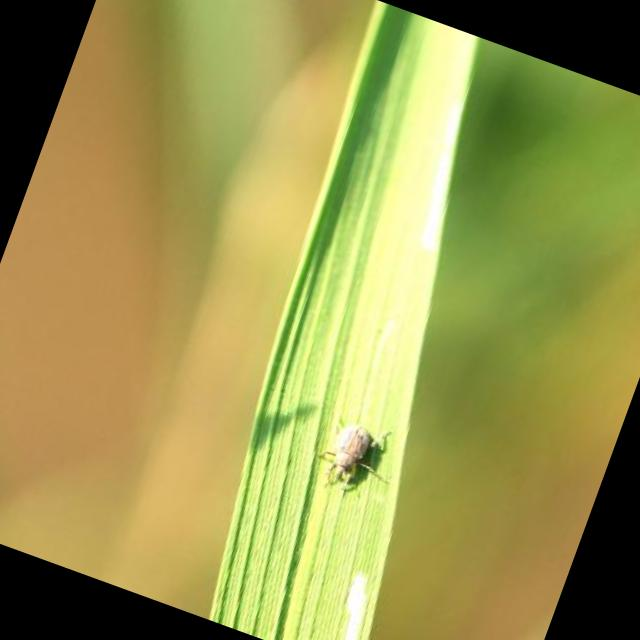rice-bug: (311, 405, 414, 505)
